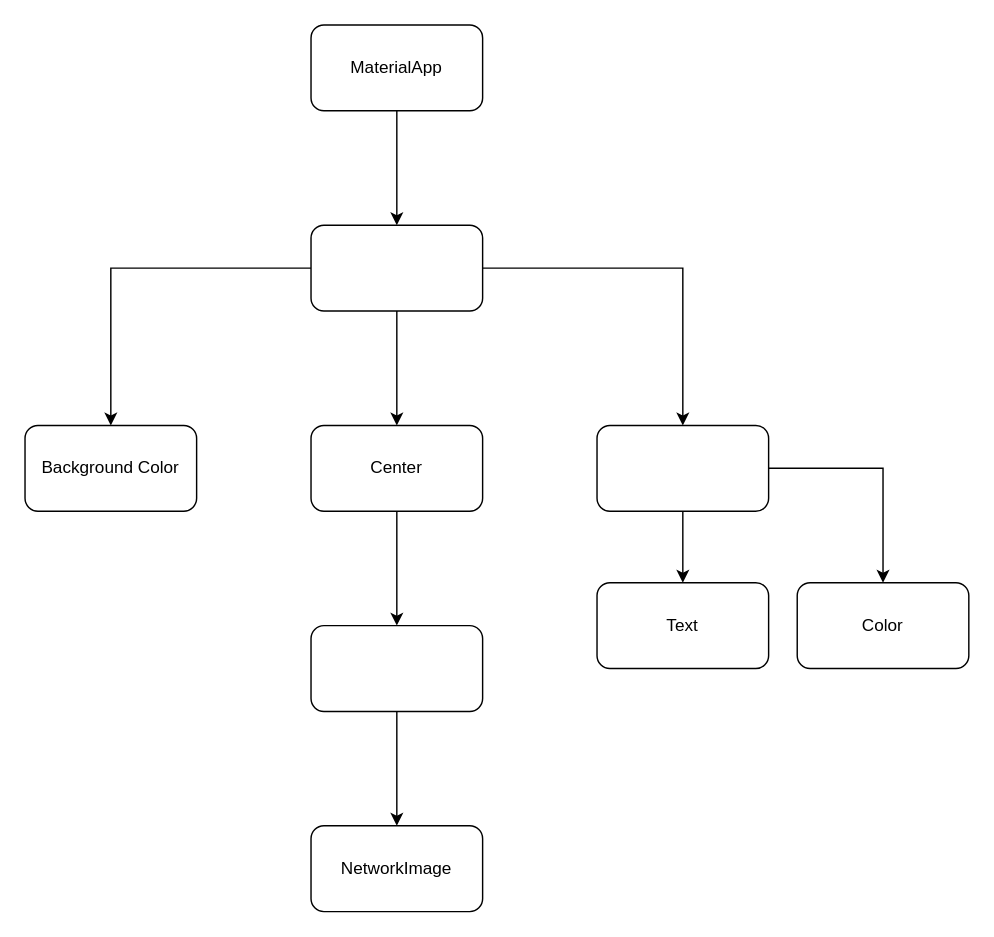
Image size: 994x937. Some labels were removed from this diagram. The box of each missing label's shape, as (x1, y1, x2, y2) in pixels:
AppBar: (596, 424, 769, 511)
Image: (310, 624, 483, 711)
Scaffold: (310, 224, 483, 311)
